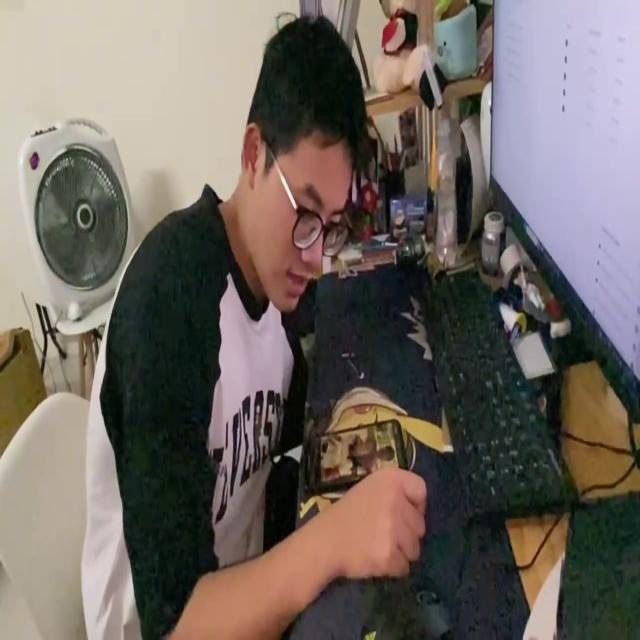laptop: (485, 1, 640, 421)
phone: (294, 411, 410, 488)
student: (81, 10, 428, 640)
